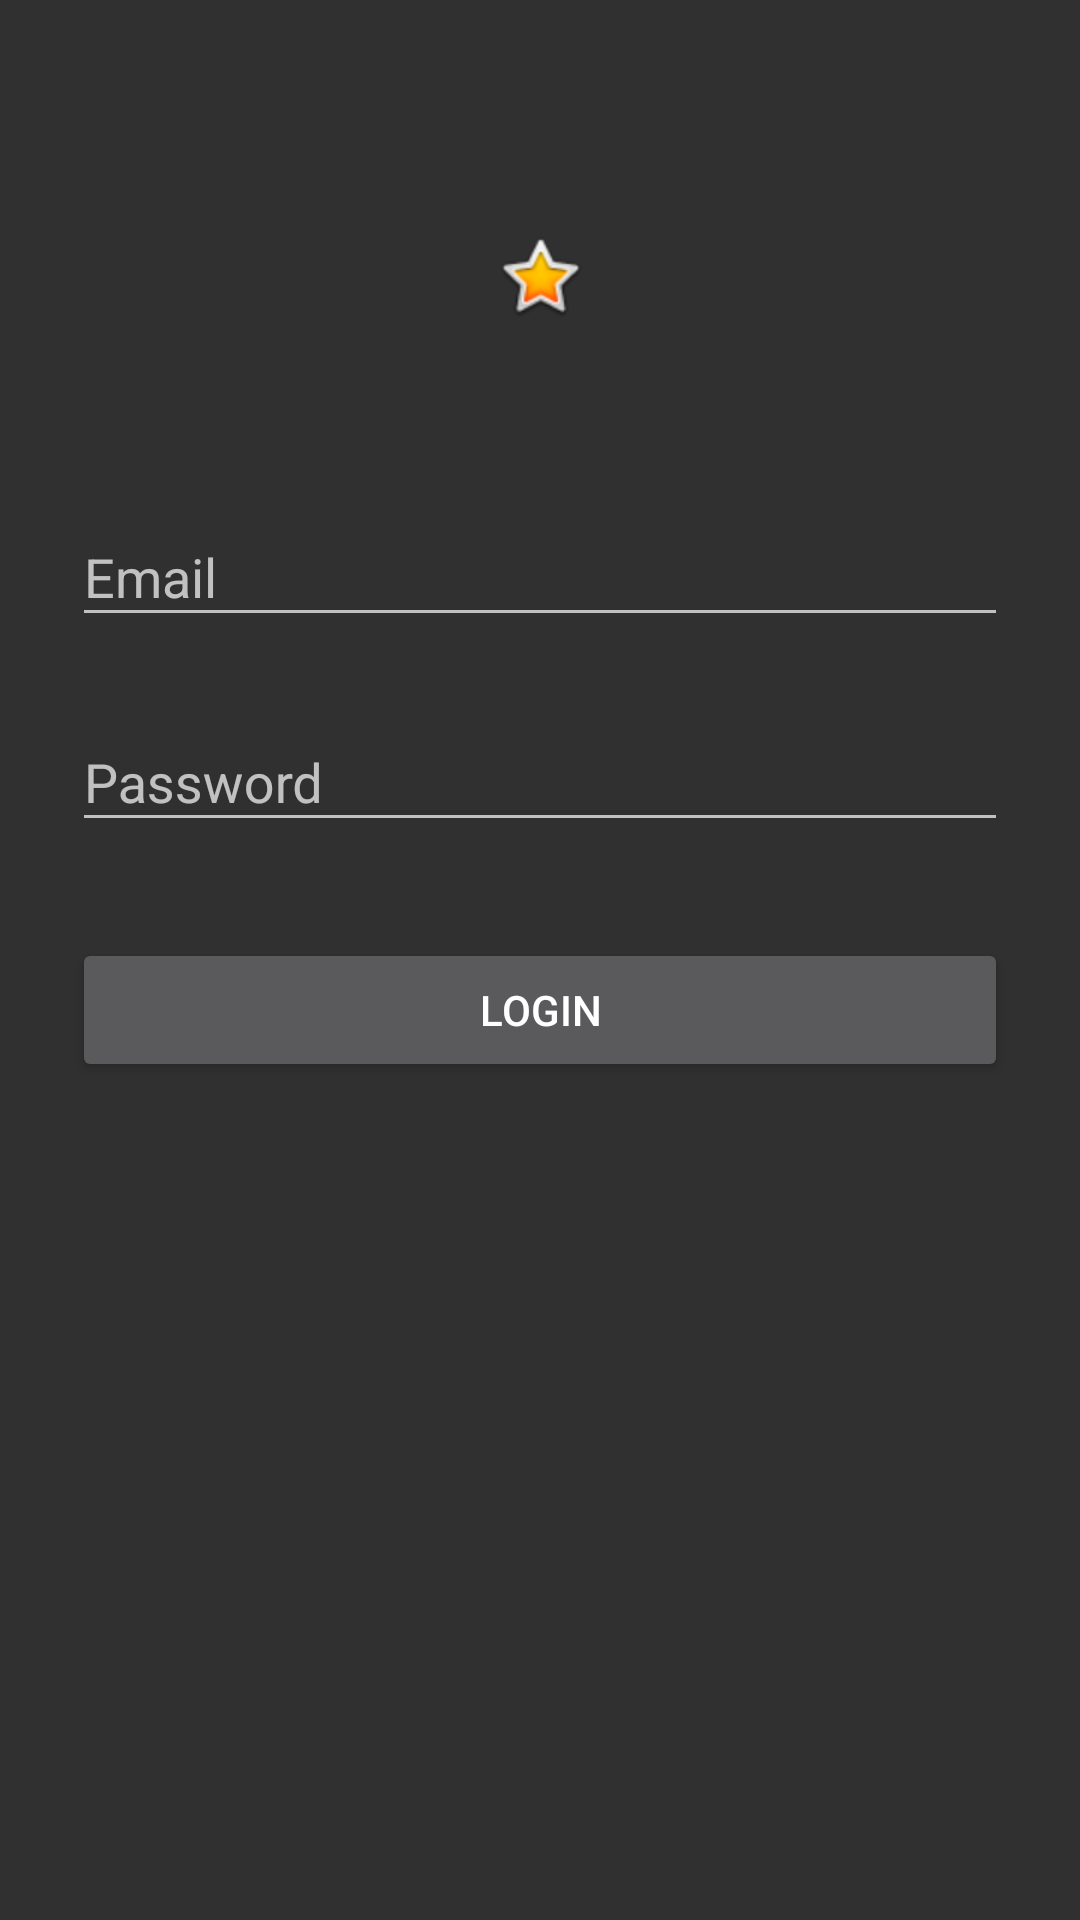

Where icons sit on this 1080×1920 app screen, as bbox=(x1, y1, x2, y2):
star on: bbox=(503, 239, 579, 312)
